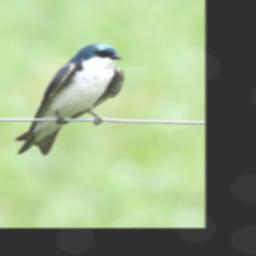Swallow: (13, 43, 125, 156)
